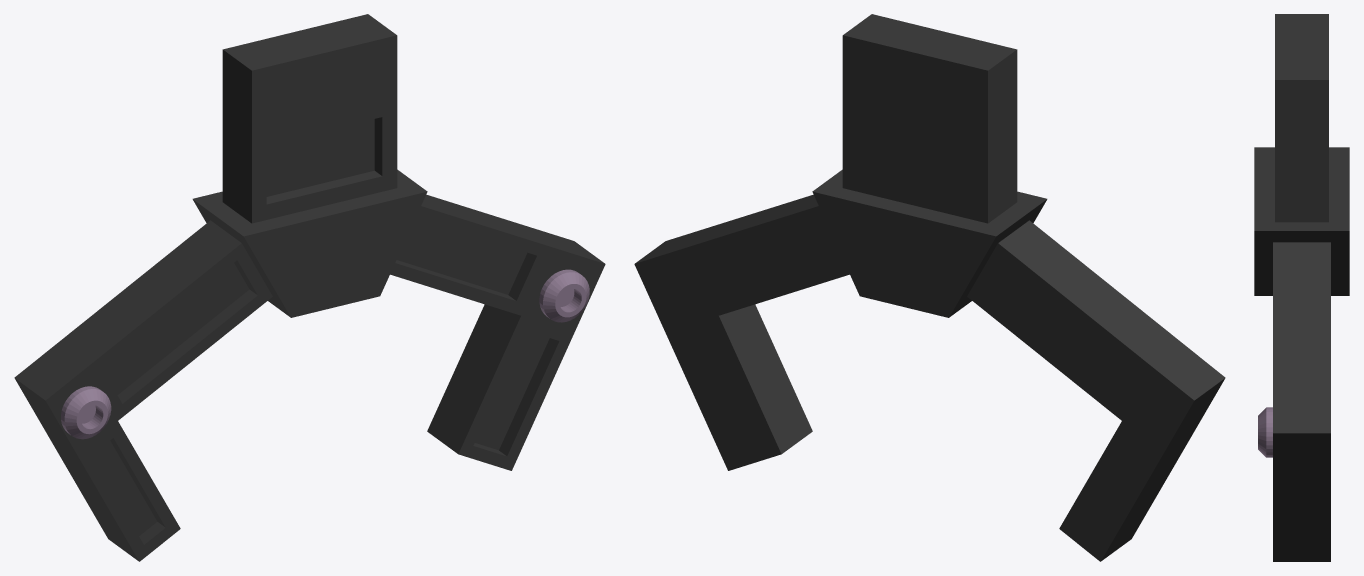
Rendered from crane.fbx.
3 views of the same model, side by side, from view 1: azimuth 30°, elevation 25°; view 2: azimuth 150°, elevation 25°; view 3: azimuth 270°, elevation 25° (orthographic). The views are drawn at different scales.
Parts seen in each view (by area): view 1: Cube.010; view 2: Cube.010; view 3: Cube.010.
Boxes of the visible parts, <box> form: Cube.010: <box>14,14,605,561</box>; Cube.010: <box>634,14,1225,561</box>; Cube.010: <box>1254,14,1349,561</box>.
Size of the model in its own units: 1259 by 994 by 200.
